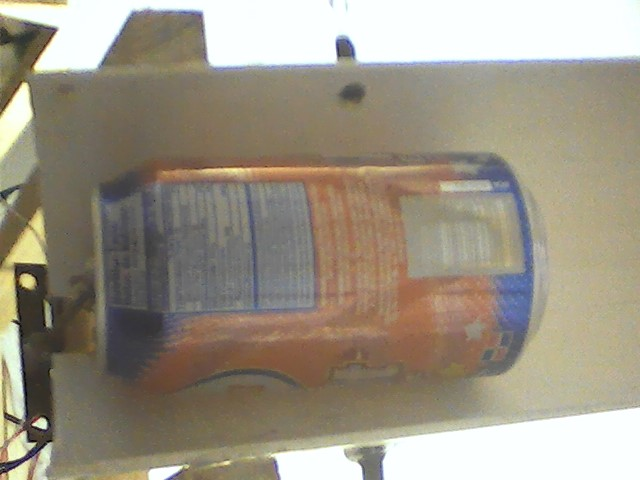lata: (88, 141, 553, 399)
